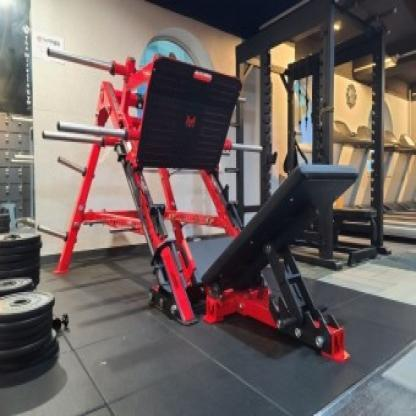leg press: (34, 39, 361, 375)
